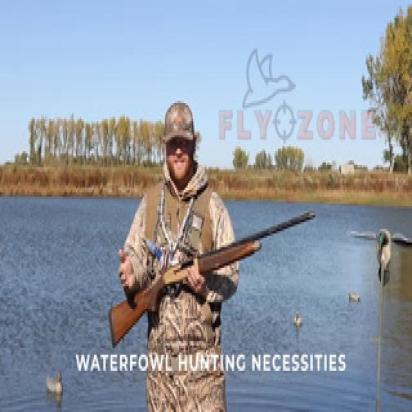Gun: (108, 200, 318, 352)
